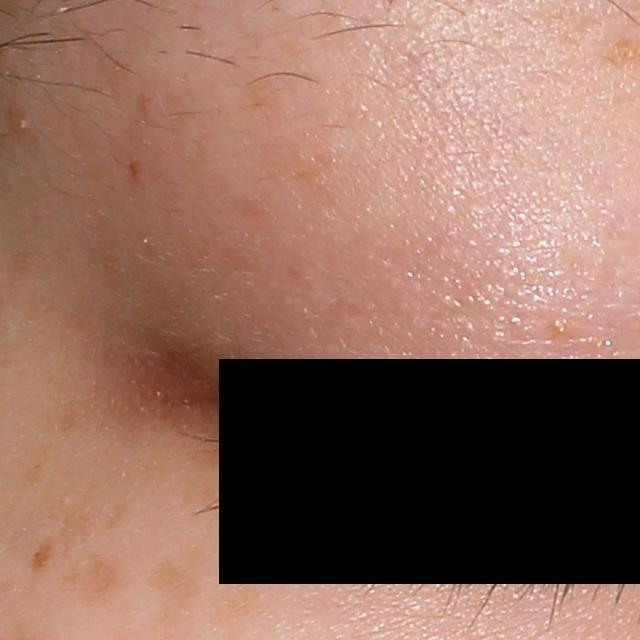comedo: (9, 112, 34, 137)
melasma: (56, 557, 131, 599), (147, 560, 209, 602), (216, 581, 264, 621), (19, 441, 55, 490), (24, 537, 60, 575), (54, 402, 85, 434), (100, 496, 125, 532), (126, 158, 148, 185)
